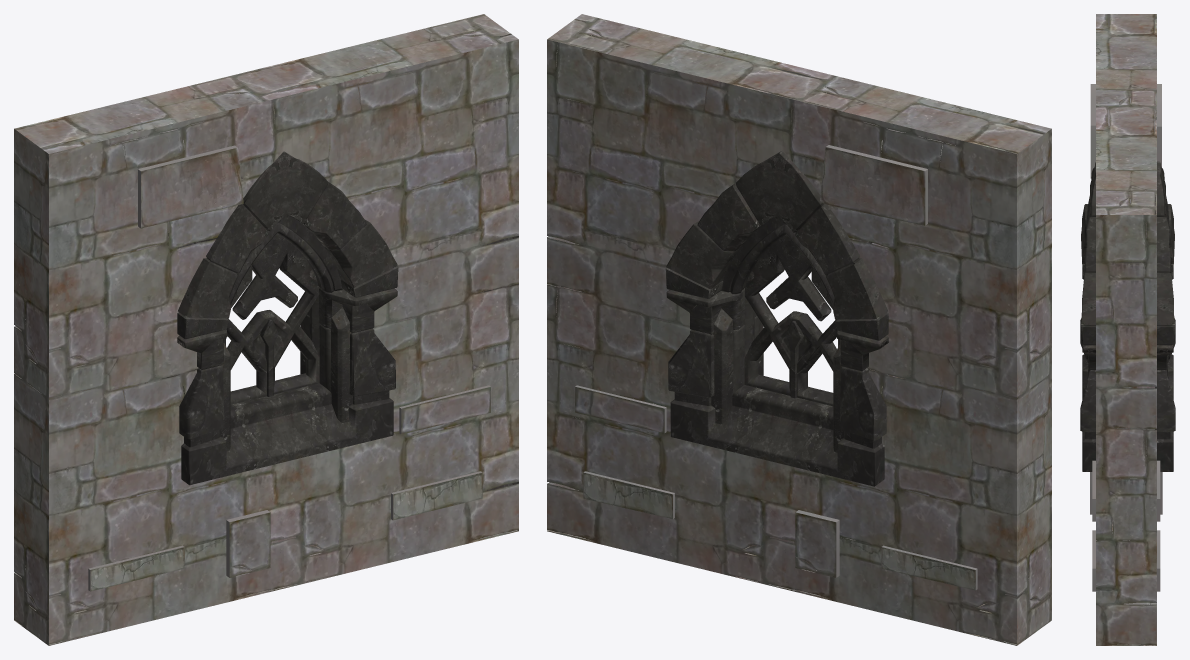
The picture shows the model from 3 angles, left to right: view 1: azimuth 30°, elevation 25°; view 2: azimuth 150°, elevation 25°; view 3: azimuth 270°, elevation 25°; orthographic projection. The views are drawn at different scales.
Visible parts, largest first — view 1: SM_BB_T3_Extended_Wall_Windowframe_Large_01_LOD0; view 2: SM_BB_T3_Extended_Wall_Windowframe_Large_01_LOD0; view 3: SM_BB_T3_Extended_Wall_Windowframe_Large_01_LOD0.
Boxes of the visible parts, x1,y1,x2,y2 form: SM_BB_T3_Extended_Wall_Windowframe_Large_01_LOD0: (14,14,518,645); SM_BB_T3_Extended_Wall_Windowframe_Large_01_LOD0: (547,14,1051,645); SM_BB_T3_Extended_Wall_Windowframe_Large_01_LOD0: (1080,14,1175,645).
Size of the model in its own units: 3 by 3 by 0.601.
2 materials, 2 textured.
